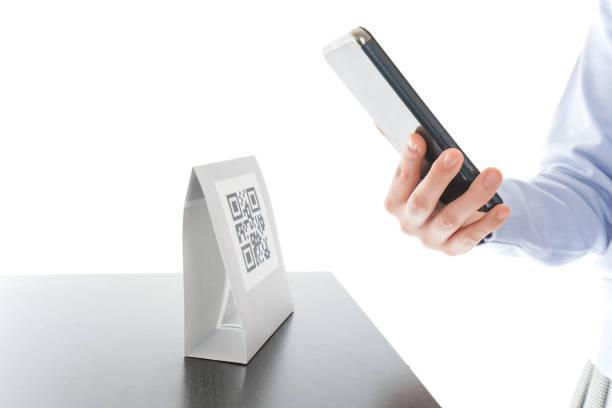Finder pattern: (224, 190, 246, 223), (240, 241, 259, 273), (243, 186, 264, 214)
